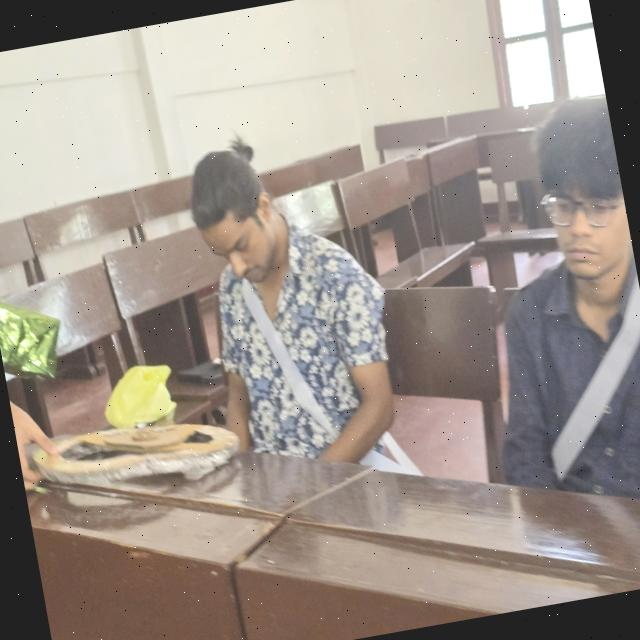seatbelt: (517, 263, 640, 491), (235, 260, 348, 470)
